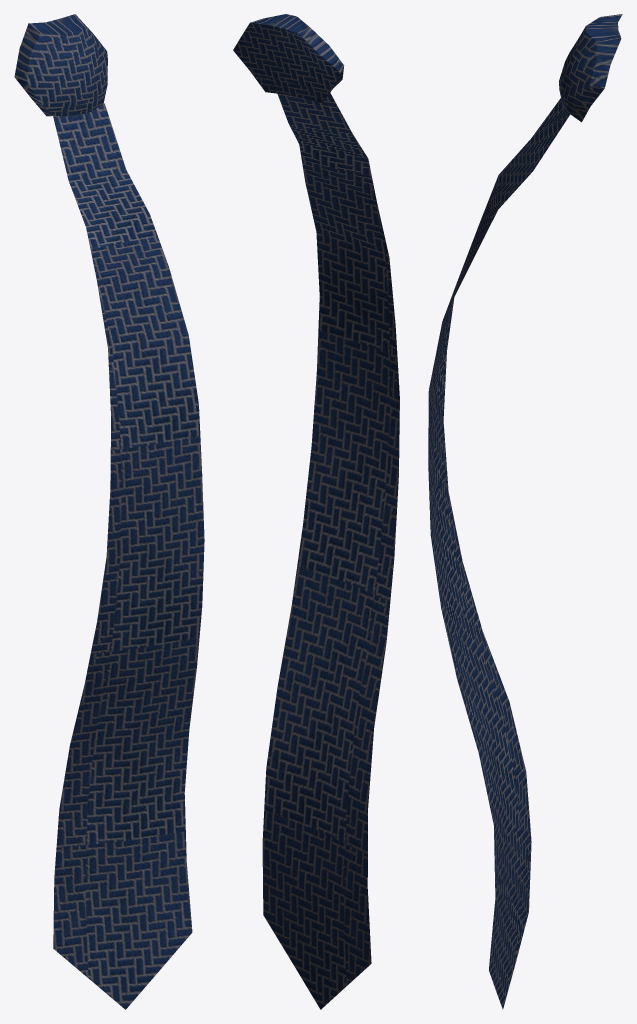
Rendered from Pose-0_SuitTie-3.fbx.
The picture shows the model from 3 angles, left to right: view 1: azimuth 30°, elevation 25°; view 2: azimuth 150°, elevation 25°; view 3: azimuth 270°, elevation 25°; orthographic projection. The views are drawn at different scales.
Visible parts, largest first — view 1: Pose-0_SuitTie-3; view 2: Pose-0_SuitTie-3; view 3: Pose-0_SuitTie-3.
Part boxes in pixels (x1,y1,x2,y2): Pose-0_SuitTie-3: (14, 14, 204, 1009); Pose-0_SuitTie-3: (233, 14, 399, 1009); Pose-0_SuitTie-3: (428, 14, 622, 1009).
Size of the model in its own units: 7.02 by 51.29 by 9.26.
